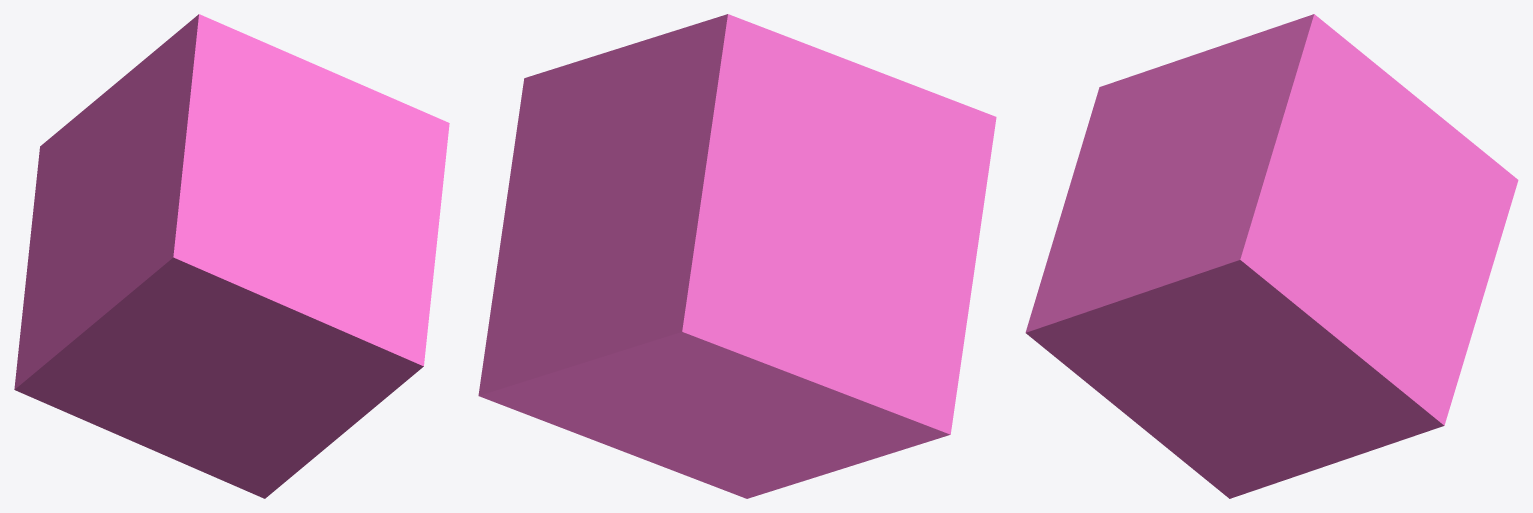
Rendered from InfoExpo_PoeticasOblicuas.gltf.
3 views of the same model, side by side, from view 1: azimuth 30°, elevation 25°; view 2: azimuth 150°, elevation 25°; view 3: azimuth 270°, elevation 25° (orthographic). The views are drawn at different scales.
Parts seen in each view (by area): view 1: InfoExpo_PoeticasOblicuas; view 2: InfoExpo_PoeticasOblicuas; view 3: InfoExpo_PoeticasOblicuas.
Boxes of the visible parts, <box> form: InfoExpo_PoeticasOblicuas: <box>14,14,449,498</box>; InfoExpo_PoeticasOblicuas: <box>478,14,996,498</box>; InfoExpo_PoeticasOblicuas: <box>1025,14,1518,498</box>.
Bounding box in the file's own units: 0.3362 × 0.3661 × 0.3461.
